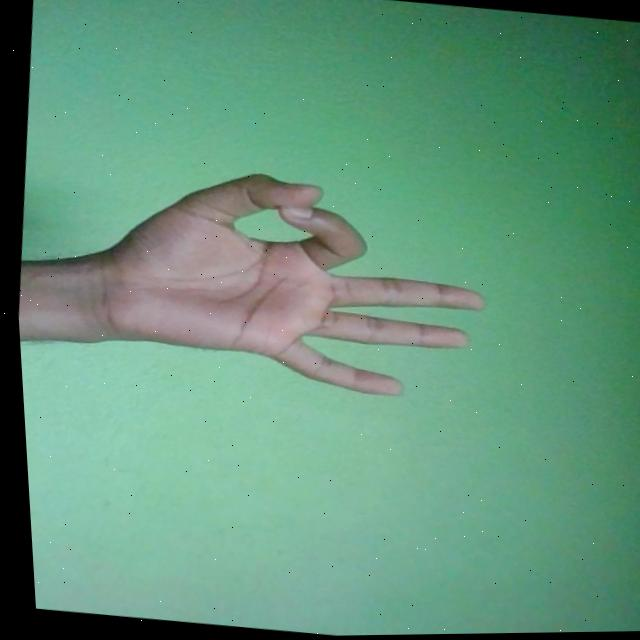Ok: (69, 152, 497, 410)
